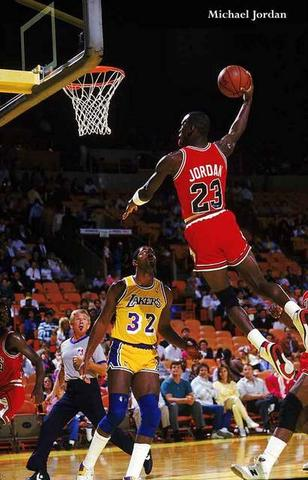ball: (209, 61, 255, 103)
basket: (54, 57, 127, 140)
defense: (94, 240, 185, 476)
dunk: (133, 56, 308, 371)
